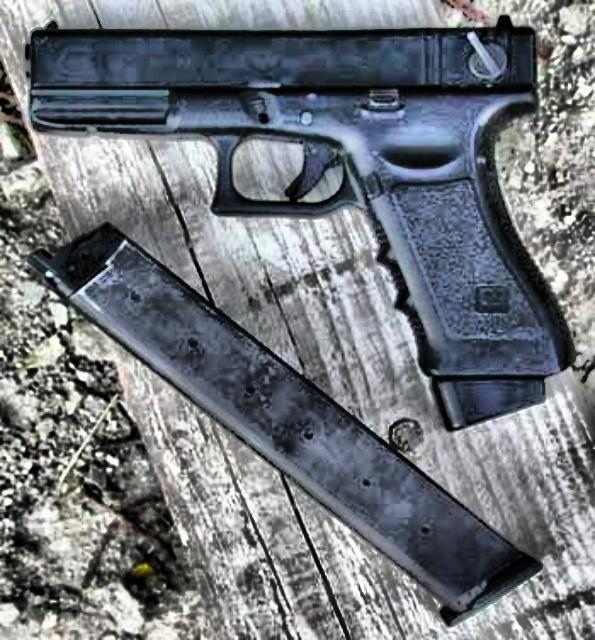pistol: (22, 17, 568, 427)
